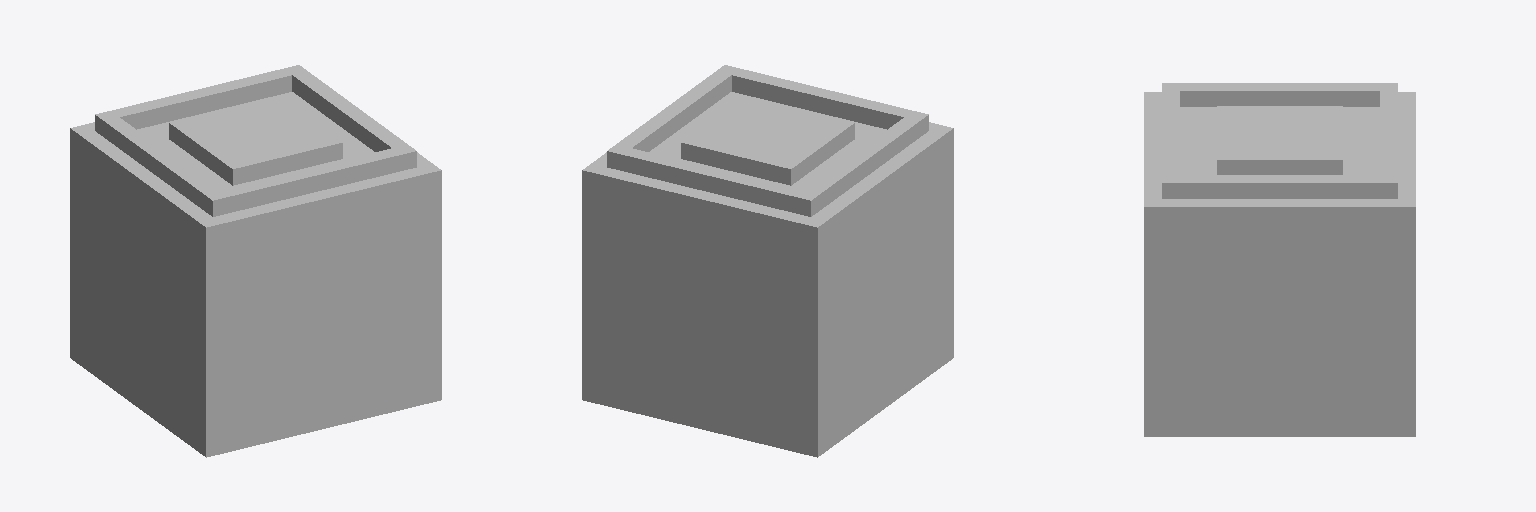
File: Atlantean Wall Top.obj
The picture shows the model from 3 angles: view 1: azimuth 30°, elevation 25°; view 2: azimuth 150°, elevation 25°; view 3: azimuth 270°, elevation 25°; orthographic projection.
Size of the model in its own units: 15 by 15 by 15.